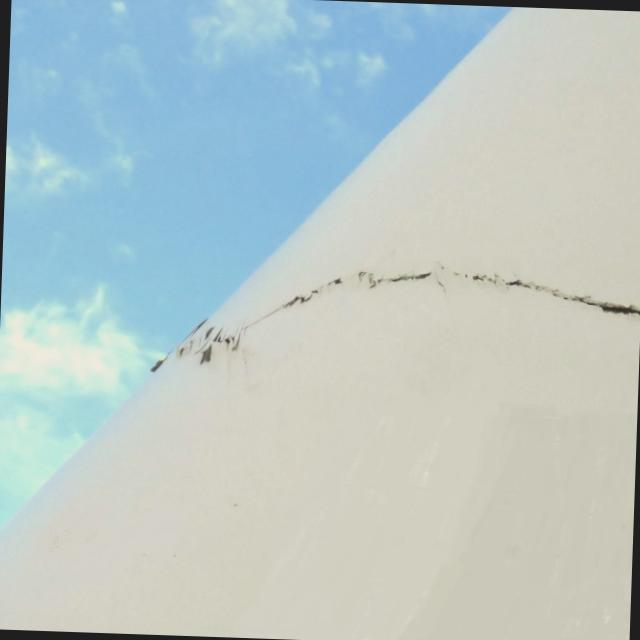crack: (146, 250, 637, 389)
